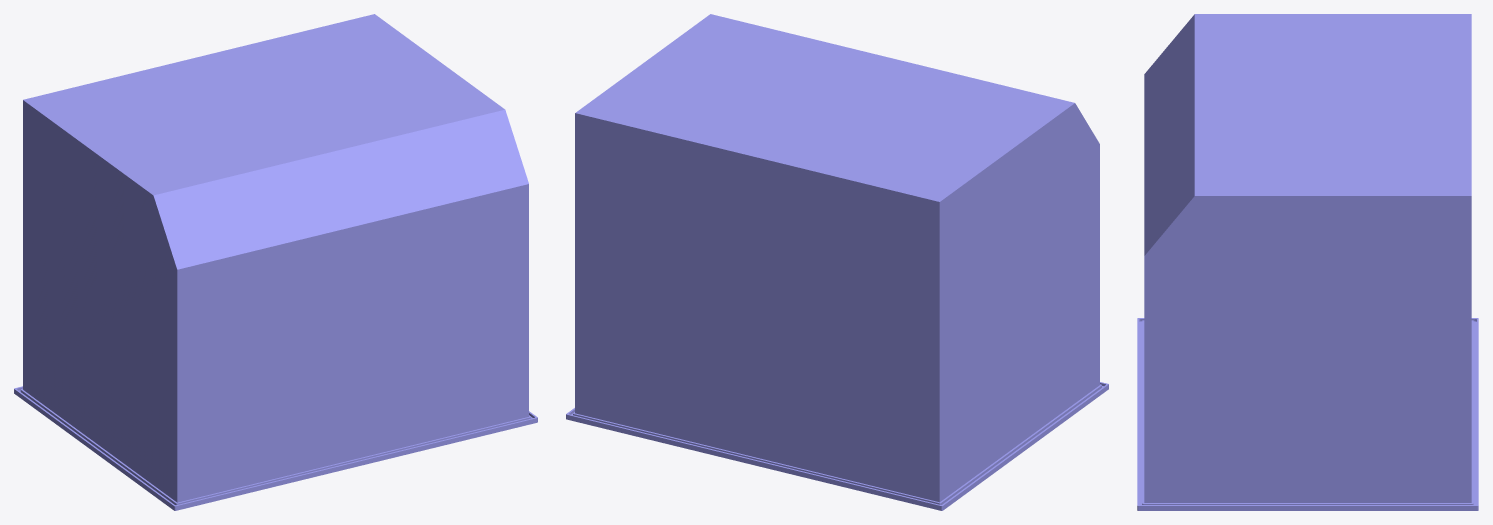
File: PartBody 11.FBX
The picture shows the model from 3 angles, left to right: view 1: azimuth 30°, elevation 25°; view 2: azimuth 150°, elevation 25°; view 3: azimuth 270°, elevation 25°; orthographic projection. The views are drawn at different scales.
Visible parts, largest first — view 1: PartBody; view 2: PartBody; view 3: PartBody.
Boxes of the visible parts, x1,y1,x2,y2 form: PartBody: [14, 14, 537, 510]; PartBody: [566, 14, 1108, 510]; PartBody: [1137, 14, 1478, 510].
Bounding box in the file's own units: 318 × 244 × 246.
